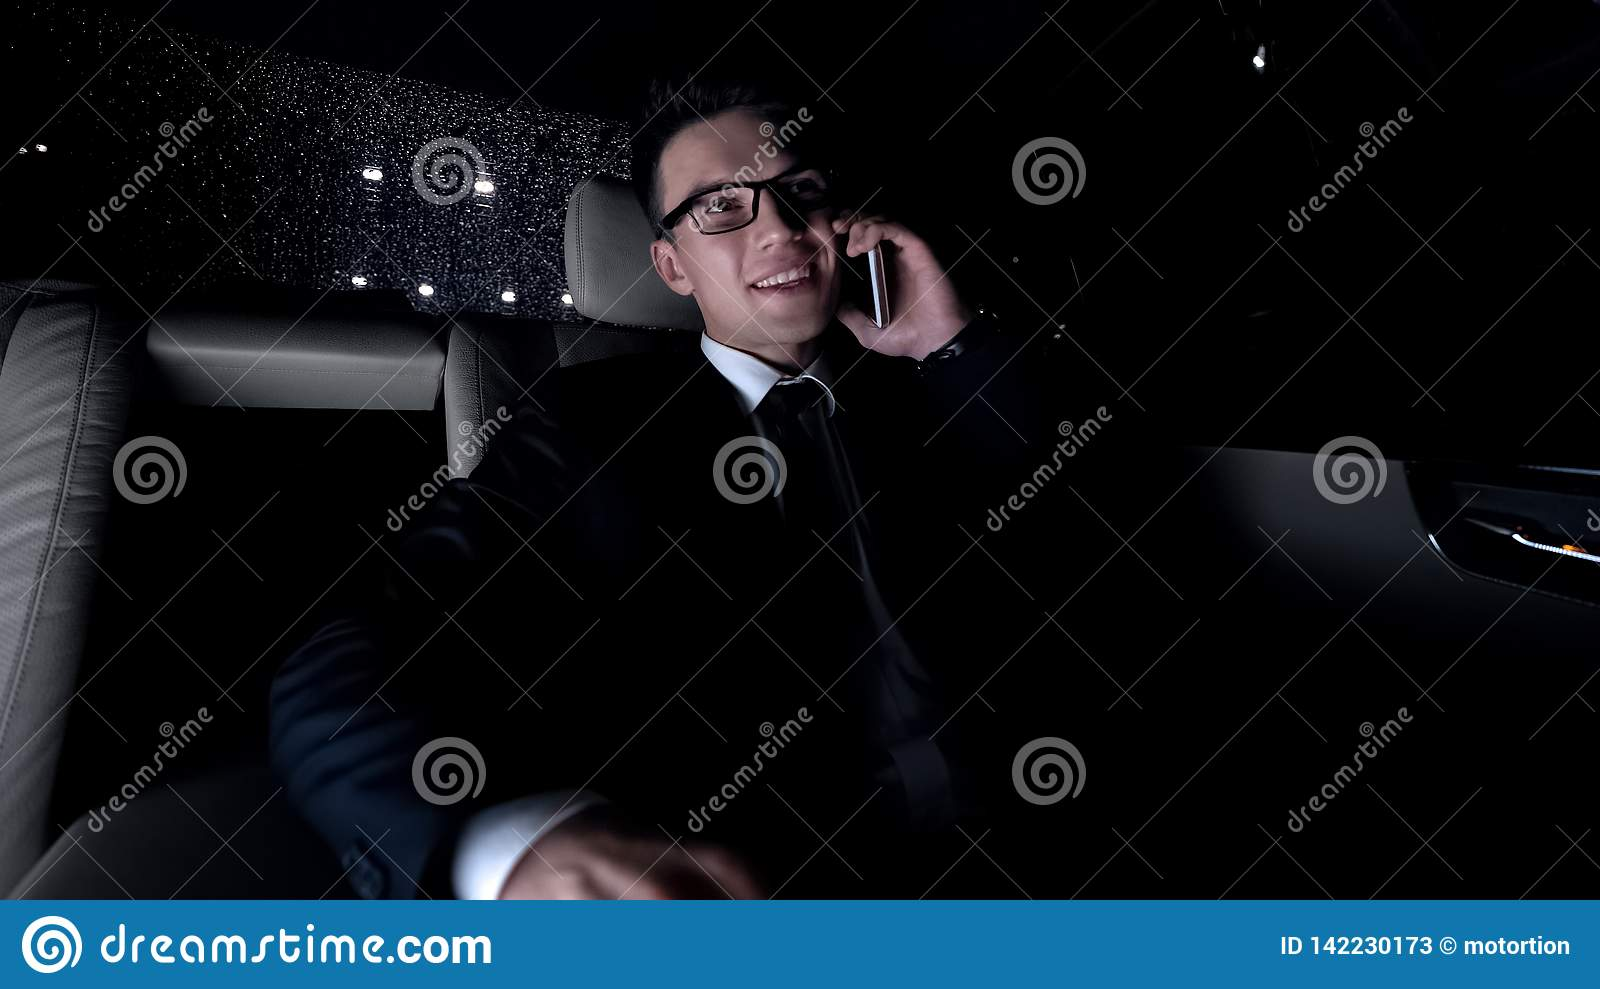phone: (830, 230, 905, 341)
talk: (694, 157, 961, 373)
